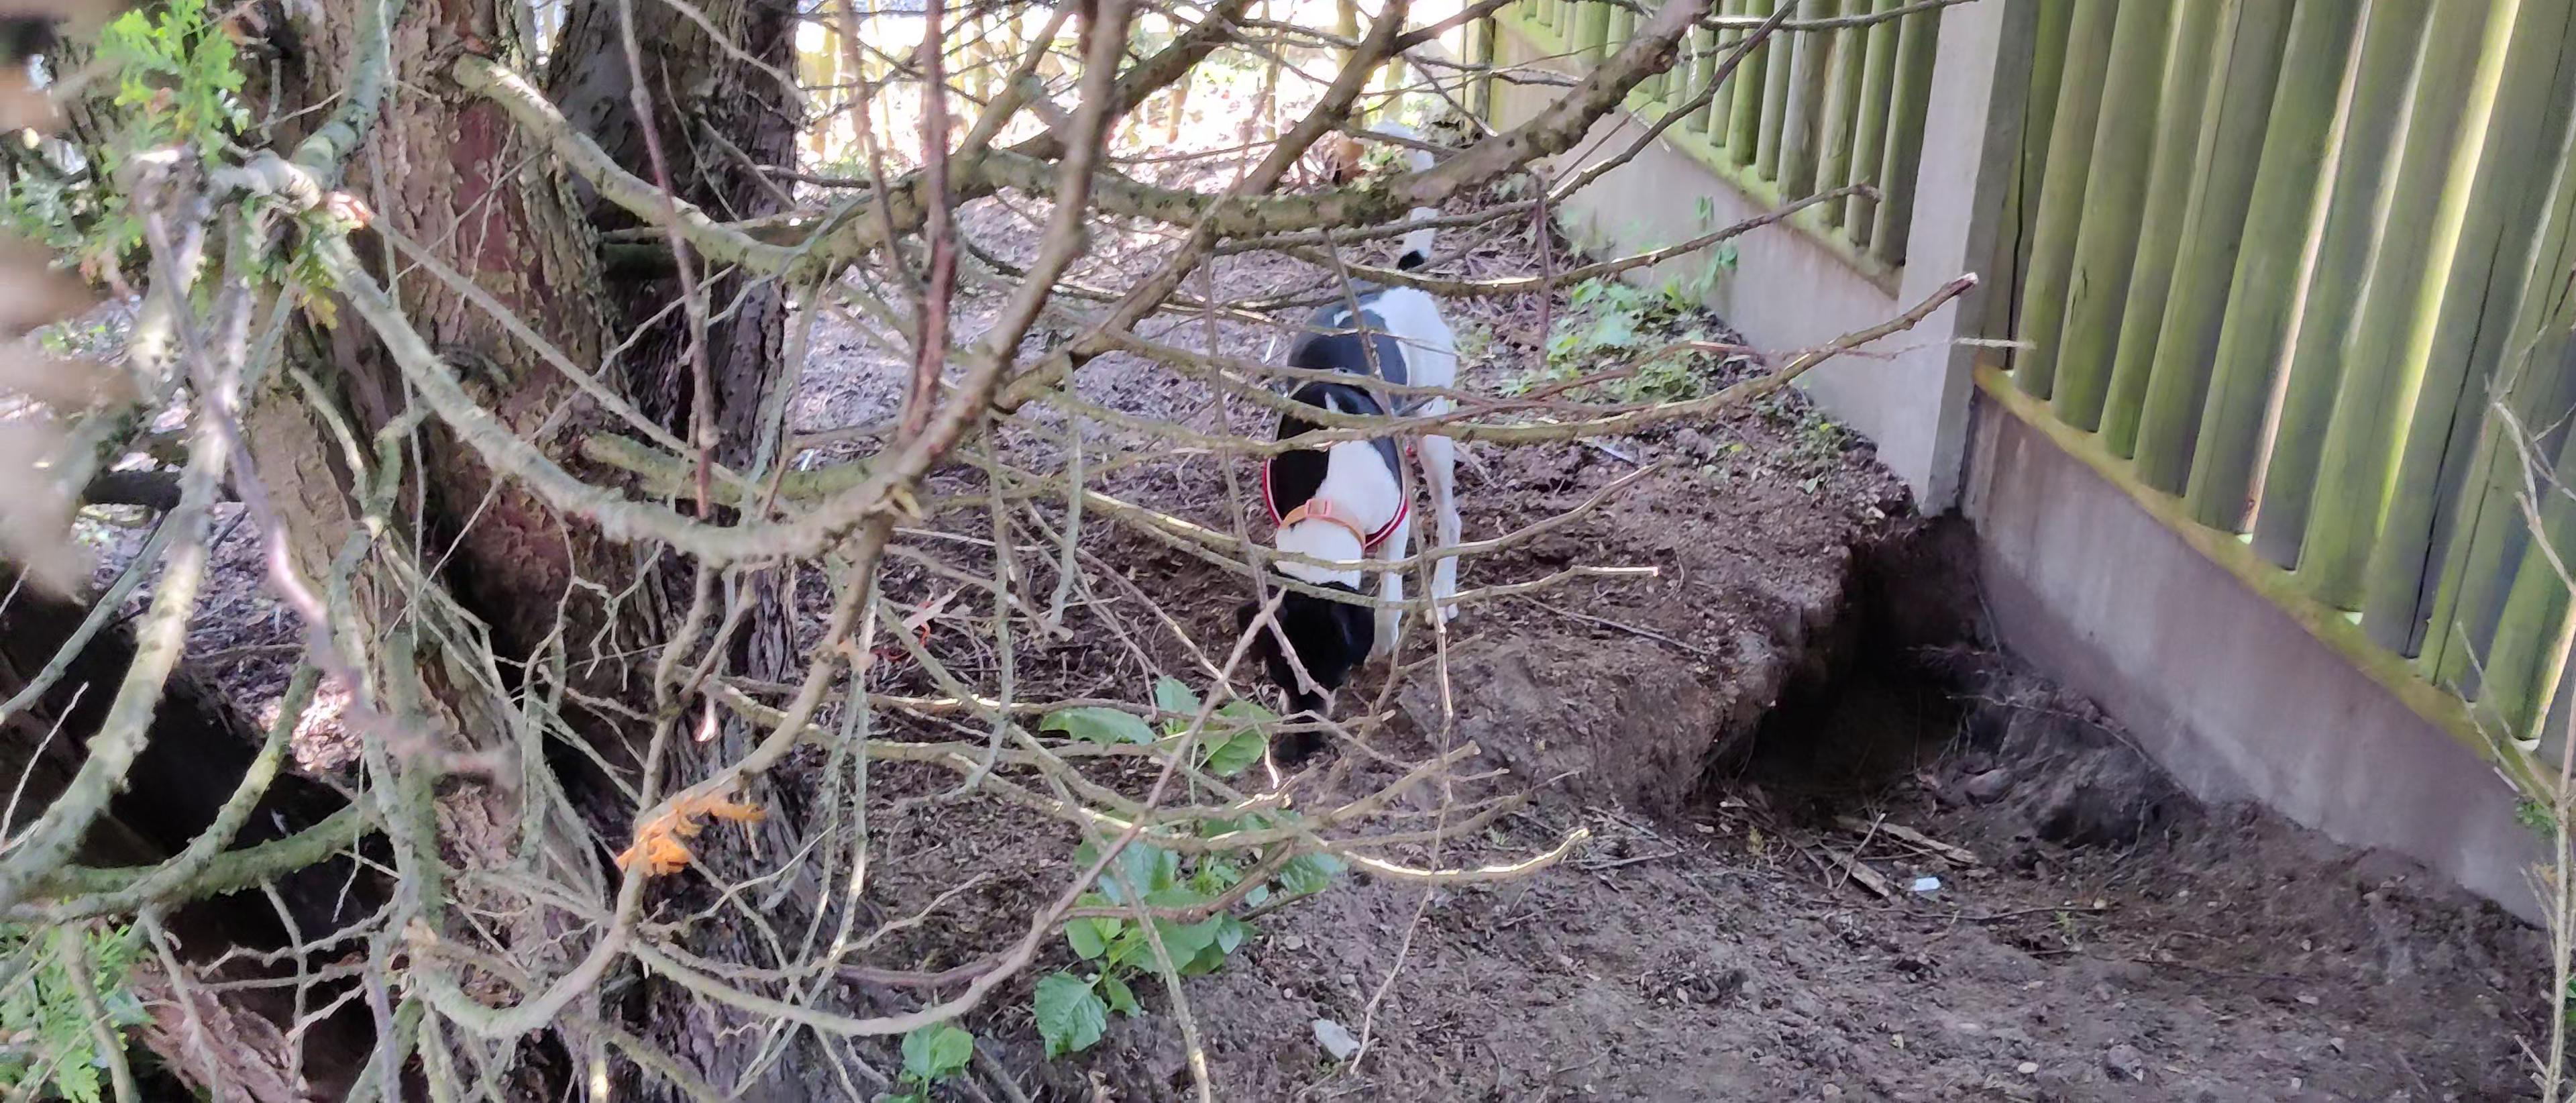Dog: (1227, 110, 1479, 774)
